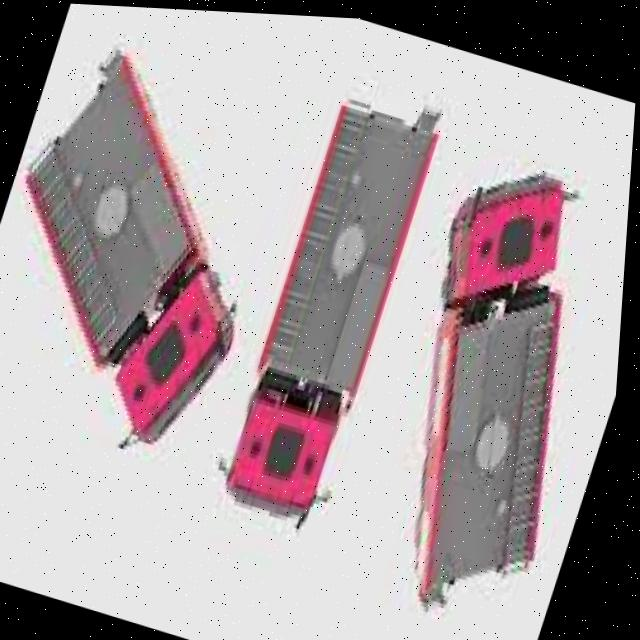truck: (338, 124, 634, 627), (0, 22, 317, 468), (225, 86, 445, 524)
